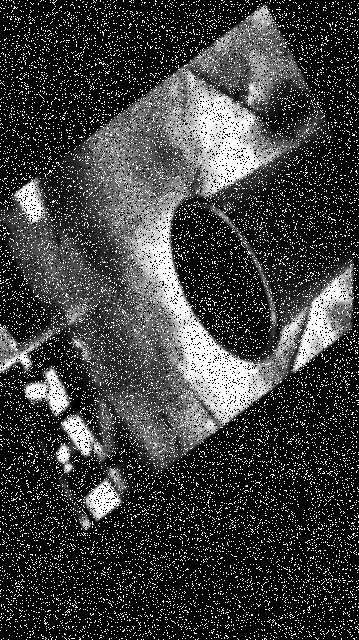pot: (170, 139, 355, 362)
